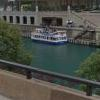Boat: (27, 25, 75, 48)
